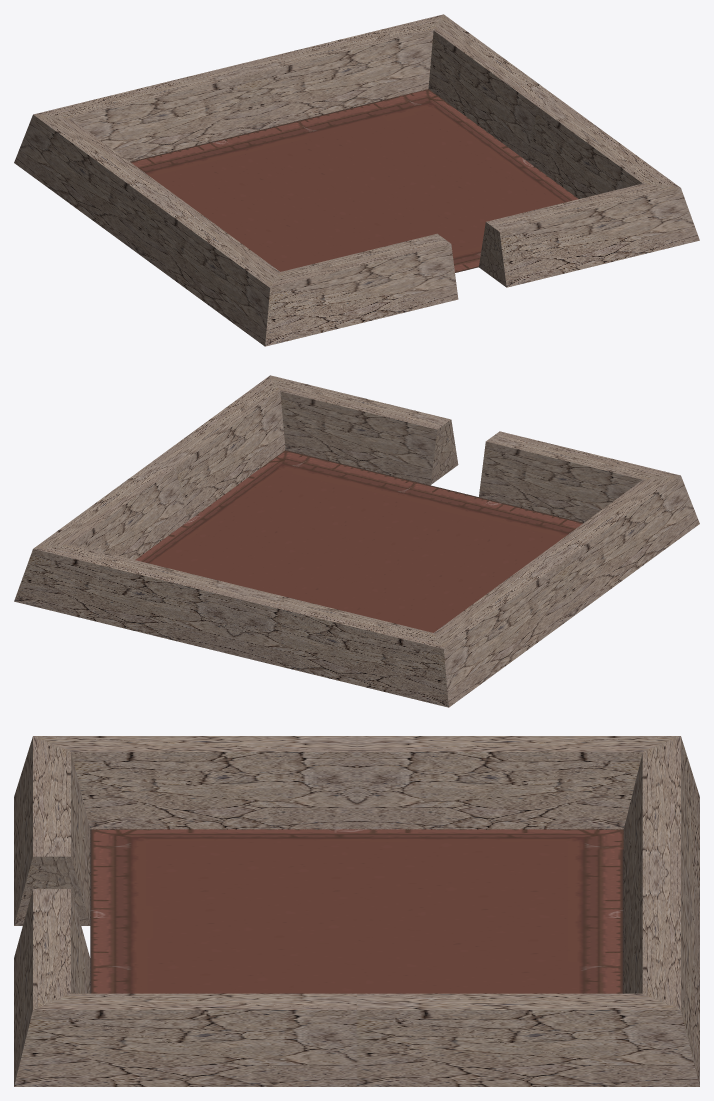
Rendered from sala_005.obj.
The picture shows the model from 3 angles, top to bottom: view 1: azimuth 30°, elevation 25°; view 2: azimuth 150°, elevation 25°; view 3: azimuth 270°, elevation 25°; orthographic projection. The views are drawn at different scales.
Visible parts, largest first — view 1: Ground_Plane, Wall.000_Cube.011, Wall.007_Cube.017, Wall.002_Cube.014, Wall.005_Cube.002, Wall.004_Cube.015, Wall.006_Cube.016, Wall.003_Cube.010, Wall.001_Cube.012; view 2: Ground_Plane, Wall.002_Cube.014, Wall.005_Cube.002, Wall.000_Cube.011, Wall.006_Cube.016, Wall.004_Cube.015, Wall.007_Cube.017, Wall.001_Cube.012, Wall.003_Cube.010; view 3: Ground_Plane, Wall.003_Cube.010, Wall.001_Cube.012, Wall.004_Cube.015, Wall.006_Cube.016, Wall.007_Cube.017, Wall.005_Cube.002, Wall.002_Cube.014, Wall.000_Cube.011.
Part boxes in pixels (left/top/right/bottom): Ground_Plane: left=130, top=89, right=578, bottom=272; Wall.000_Cube.011: left=479, top=183, right=699, bottom=287; Wall.007_Cube.017: left=265, top=233, right=458, bottom=346; Wall.002_Cube.014: left=239, top=14, right=443, bottom=129; Wall.005_Cube.002: left=33, top=64, right=259, bottom=161; Wall.004_Cube.015: left=14, top=114, right=175, bottom=254; Wall.006_Cube.016: left=139, top=195, right=279, bottom=346; Wall.003_Cube.010: left=428, top=14, right=561, bottom=159; Wall.001_Cube.012: left=526, top=101, right=680, bottom=198; Ground_Plane: left=135, top=450, right=583, bottom=632; Wall.002_Cube.014: left=14, top=544, right=251, bottom=654; Wall.005_Cube.002: left=231, top=589, right=448, bottom=707; Wall.000_Cube.011: left=270, top=375, right=458, bottom=485; Wall.006_Cube.016: left=538, top=475, right=699, bottom=615; Wall.004_Cube.015: left=434, top=556, right=574, bottom=707; Wall.007_Cube.017: left=479, top=431, right=680, bottom=522; Wall.001_Cube.012: left=152, top=375, right=285, bottom=520; Wall.003_Cube.010: left=33, top=462, right=187, bottom=559; Ground_Plane: left=90, top=829, right=623, bottom=993; Wall.003_Cube.010: left=357, top=993, right=699, bottom=1086; Wall.001_Cube.012: left=14, top=993, right=356, bottom=1086; Wall.004_Cube.015: left=357, top=736, right=680, bottom=829; Wall.006_Cube.016: left=33, top=736, right=356, bottom=829; Wall.007_Cube.017: left=14, top=736, right=90, bottom=925; Wall.005_Cube.002: left=623, top=736, right=699, bottom=941; Wall.002_Cube.014: left=623, top=873, right=699, bottom=1085; Wall.000_Cube.011: left=14, top=889, right=90, bottom=1085.
Bounding box in the file's own units: 18 × 2 × 18.
